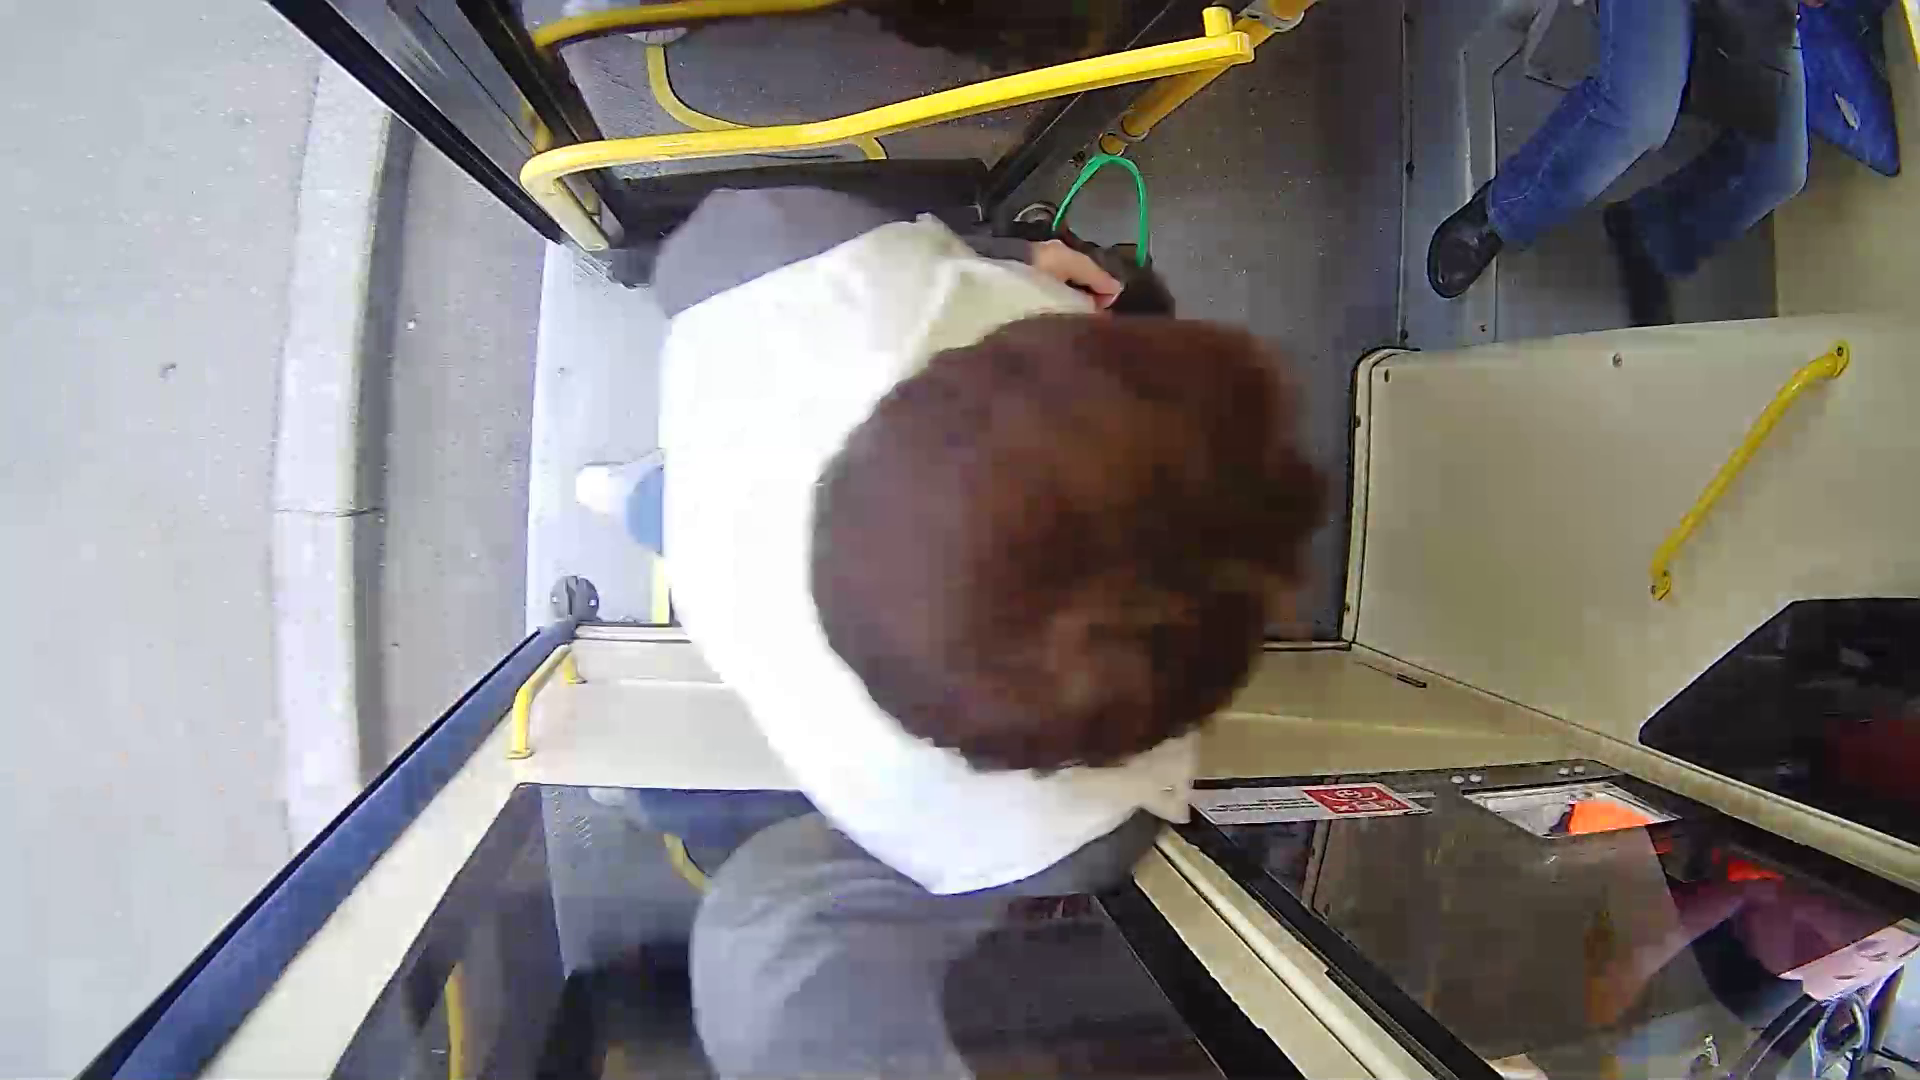person: (510, 164, 1400, 883)
